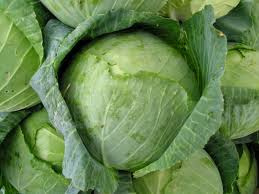cabbage: (54, 11, 219, 178)
